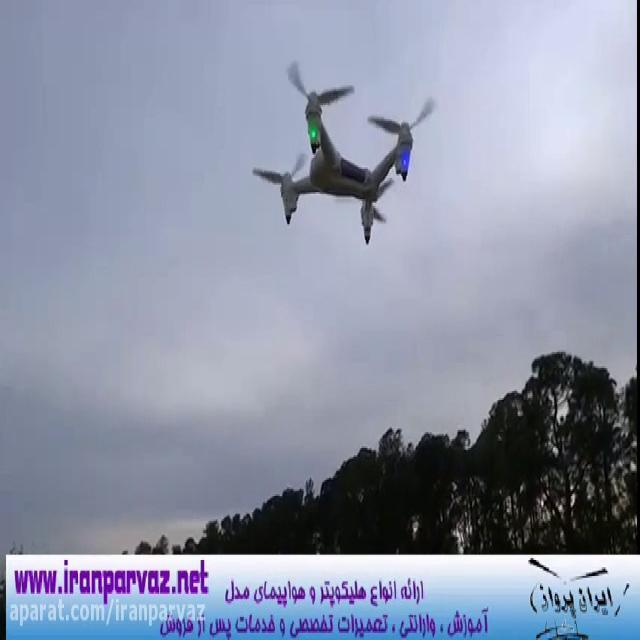drone: (248, 52, 438, 246)
